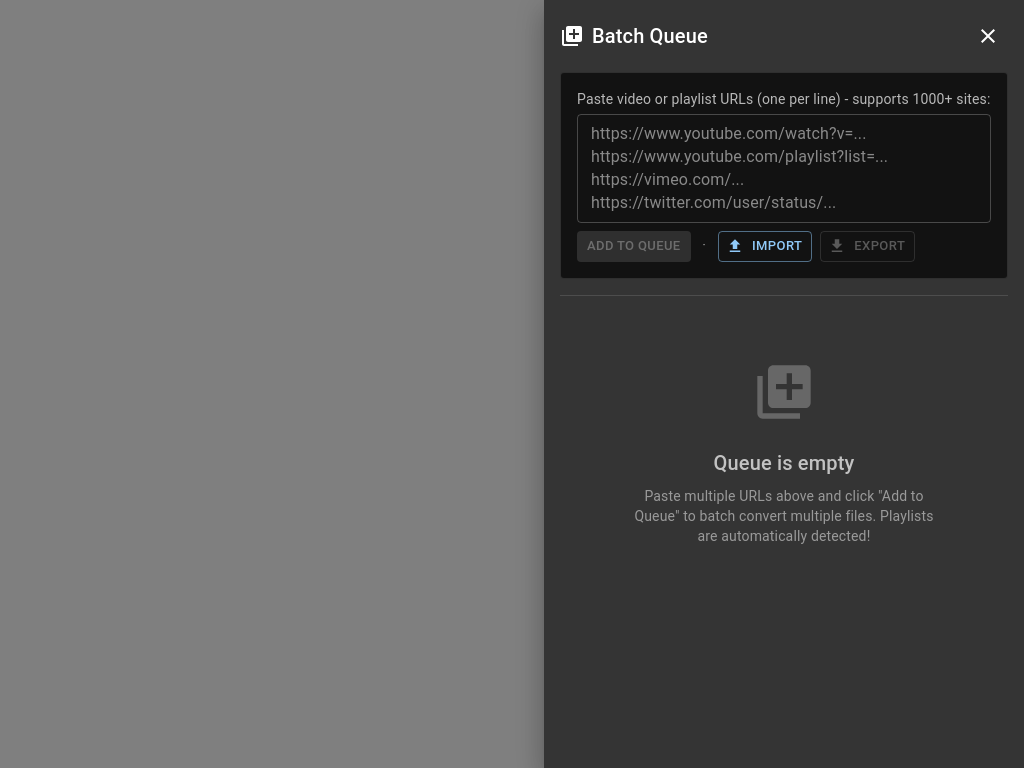
Test: QueuePanel › clears the queue when Clear All is clicked
The width and height of the screenshot is (1024, 768).
Click the text box at point(784, 168), box [591,122,977,214]
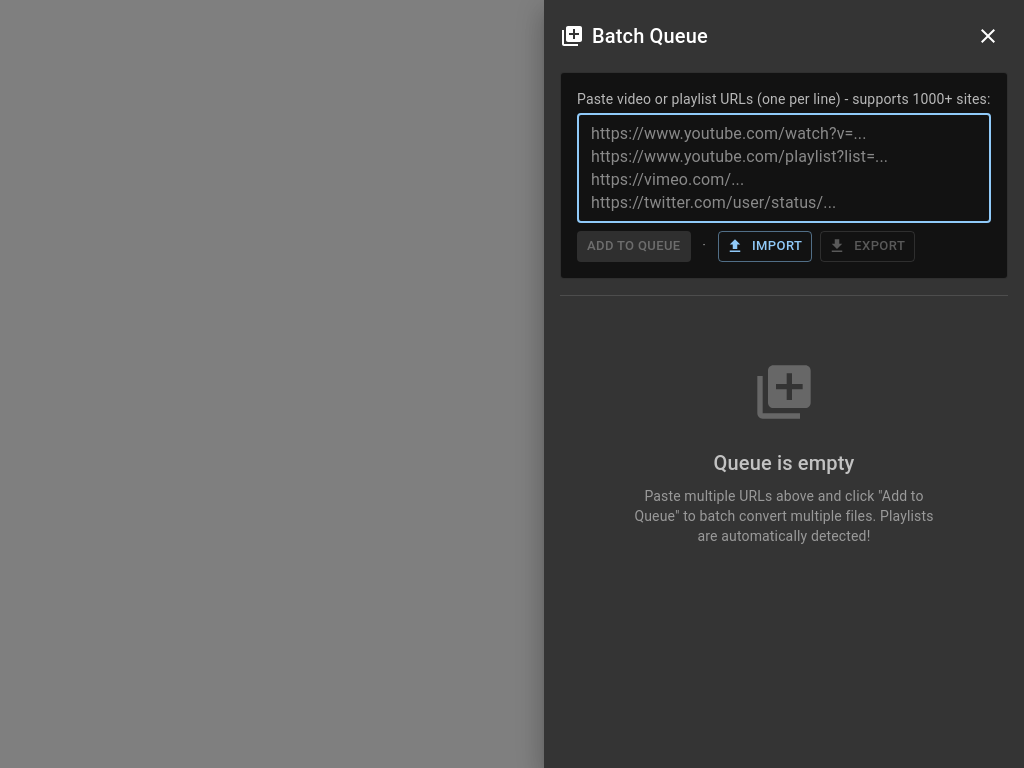
Type keys "https://www.youtube.com/watch?v=dQw4w9WgXcQ"
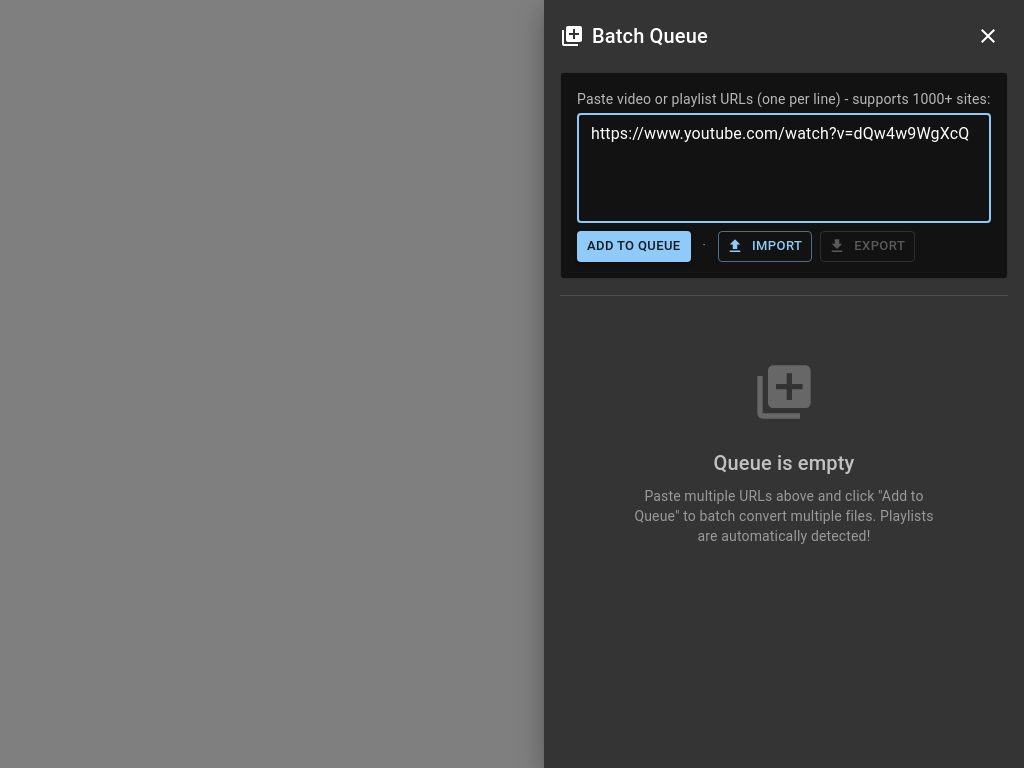
Click the button "Add to Queue" at point(634, 246), box [577,231,690,262]
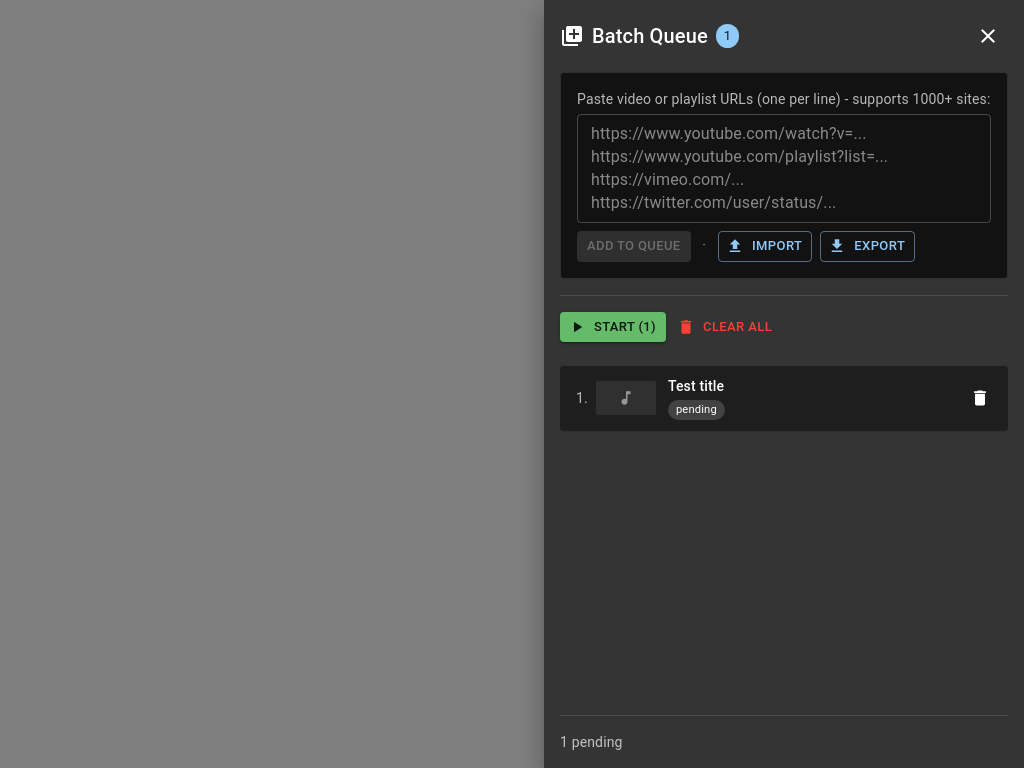
Now the text "Test title" is shown, box [668,376,724,396]
Click the button "Clear All" at point(726, 327), box [674,312,777,342]
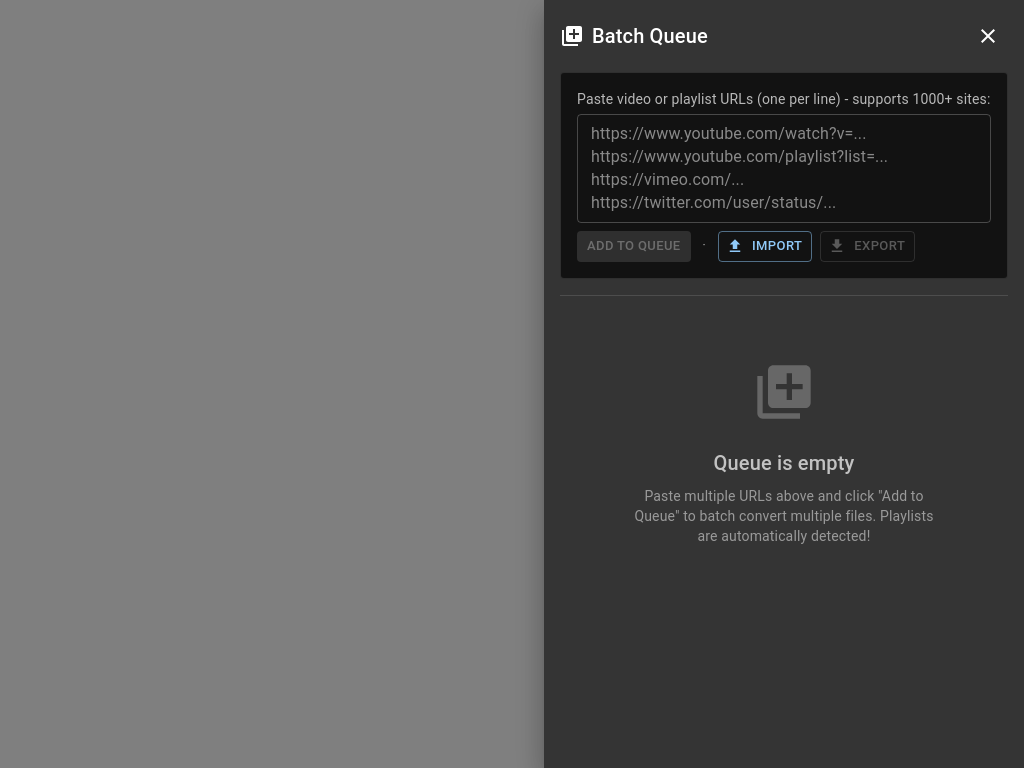
Now the heading "Queue is empty" is shown, box [714,451,854,475]
